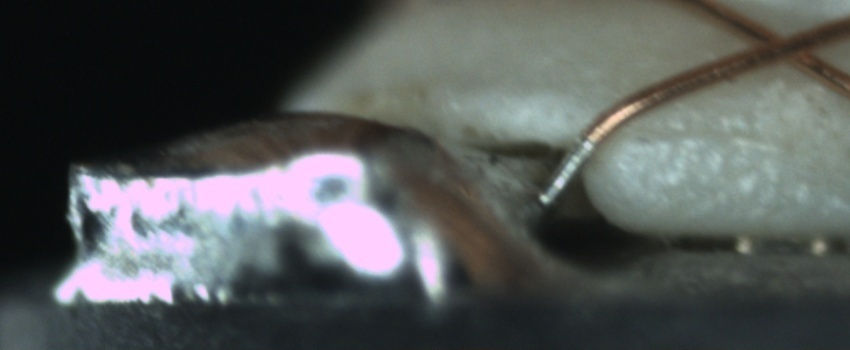CL: (735, 15, 827, 74)
DL: (625, 113, 773, 160)
TS: (537, 134, 596, 211)
